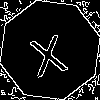X: (25, 25, 69, 78)
